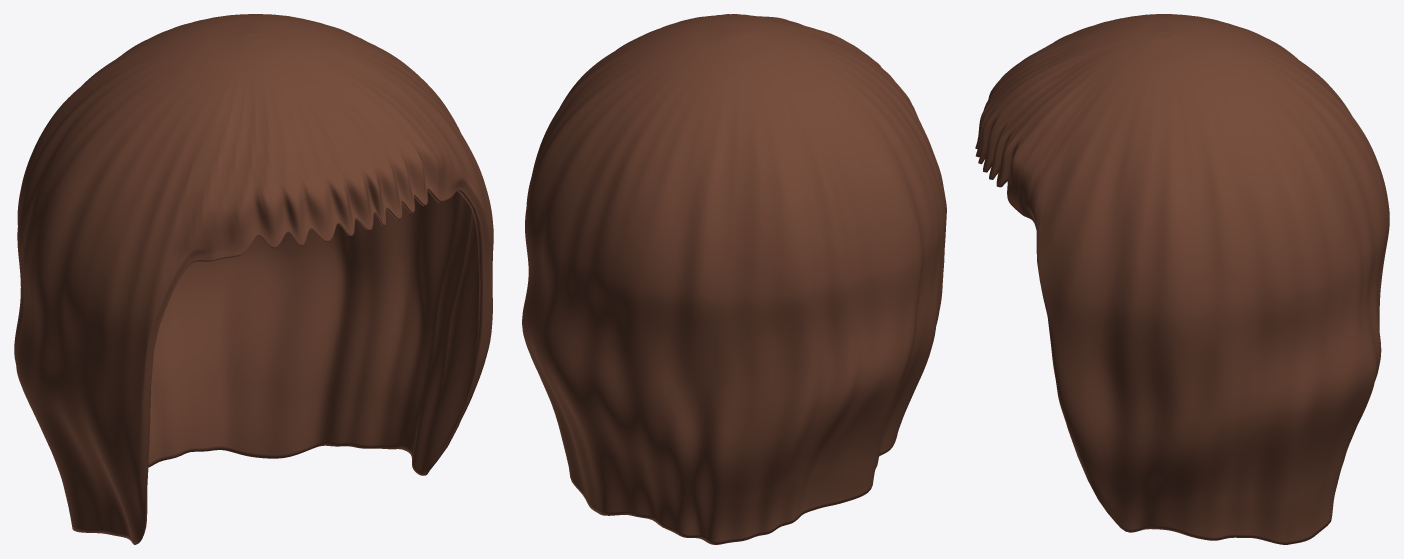
File: rounded.glb
3 renders of one model, left to right at view 1: azimuth 30°, elevation 25°; view 2: azimuth 150°, elevation 25°; view 3: azimuth 270°, elevation 25°, orthographic. The views are drawn at different scales.
Parts seen in each view (by area): view 1: Hair / rounded fringe; view 2: Hair / rounded fringe; view 3: Hair / rounded fringe.
Part boxes in pixels (x1,y1,x2,y2): Hair / rounded fringe: (14, 14, 493, 544); Hair / rounded fringe: (522, 14, 946, 544); Hair / rounded fringe: (975, 14, 1389, 544).
Size of the model in its own units: 0.8505 by 0.9612 by 0.777.
